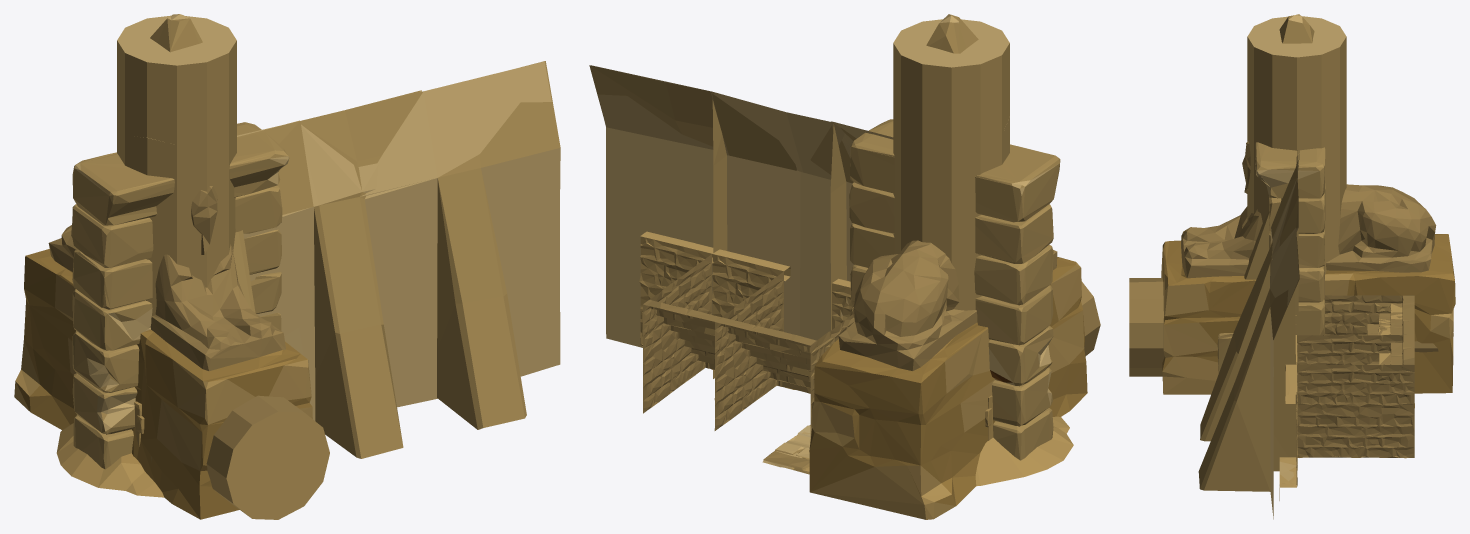
Rendered from LPAETP_ModelLibrary.fbx.
3 renders of one model, left to right at view 1: azimuth 30°, elevation 25°; view 2: azimuth 150°, elevation 25°; view 3: azimuth 270°, elevation 25°, orthographic. The views are drawn at different scales.
Parts seen in each view (by area): view 1: LPAETP_Wall07, LPAETP_Statue01, LPAETP_Wall013, LPAETP_Pillar01, LPAETP_Wall08, LPAETP_Wall010, LPAETP_Pillar04, LPAETP_Wall09, LPAETP_Wall011, LPAETP_Pillar02, LPAETP_Debris03, LPAETP_Pillar05; view 2: LPAETP_Statue01, LPAETP_Wall013, LPAETP_Wall010, LPAETP_Pillar01, LPAETP_Wall011, LPAETP_Wall015, LPAETP_Wall05, LPAETP_Pillar02, LPAETP_Wall07, LPAETP_Wall08, LPAETP_Debris03, LPAETP_Pillar05 (+3 smaller); view 3: LPAETP_Statue01, LPAETP_Wall07, LPAETP_Wall015, LPAETP_Pillar01, LPAETP_Wall013, LPAETP_Pillar02, LPAETP_Wall05, LPAETP_Pillar04, LPAETP_Wall08, LPAETP_Wall010, LPAETP_Wall09, LPAETP_Pillar05 (+1 smaller).
Part boxes in pixels (x1,y1,x2,y2): LPAETP_Wall07: [285, 61, 560, 457]; LPAETP_Statue01: [14, 186, 312, 519]; LPAETP_Wall013: [72, 122, 289, 469]; LPAETP_Pillar01: [117, 15, 236, 287]; LPAETP_Wall08: [284, 90, 420, 458]; LPAETP_Wall010: [237, 61, 560, 420]; LPAETP_Pillar04: [206, 395, 329, 519]; LPAETP_Wall09: [233, 121, 313, 335]; LPAETP_Wall011: [237, 90, 421, 417]; LPAETP_Pillar02: [125, 107, 236, 327]; LPAETP_Debris03: [56, 423, 144, 490]; LPAETP_Pillar05: [150, 14, 202, 462]; LPAETP_Statue01: [809, 240, 1087, 519]; LPAETP_Wall013: [849, 119, 1060, 460]; LPAETP_Wall010: [591, 65, 893, 347]; LPAETP_Pillar01: [893, 19, 1009, 310]; LPAETP_Wall011: [711, 93, 893, 340]; LPAETP_Wall015: [639, 231, 817, 413]; LPAETP_Wall05: [712, 249, 854, 438]; LPAETP_Pillar02: [893, 93, 1009, 309]; LPAETP_Wall07: [589, 65, 856, 378]; LPAETP_Wall08: [712, 93, 855, 330]; LPAETP_Debris03: [975, 426, 1073, 486]; LPAETP_Pillar05: [926, 14, 978, 53]; LPAETP_Statue01: [1161, 141, 1455, 394]; LPAETP_Wall07: [1198, 150, 1299, 515]; LPAETP_Wall015: [1279, 295, 1414, 500]; LPAETP_Pillar01: [1247, 16, 1346, 222]; LPAETP_Wall013: [1255, 142, 1325, 335]; LPAETP_Pillar02: [1254, 71, 1346, 274]; LPAETP_Wall05: [1286, 295, 1414, 418]; LPAETP_Pillar04: [1129, 278, 1438, 376]; LPAETP_Wall08: [1200, 198, 1298, 440]; LPAETP_Wall010: [1270, 150, 1299, 519]; LPAETP_Wall09: [1244, 152, 1297, 279]; LPAETP_Pillar05: [1279, 14, 1314, 43].
Bounding box in the file's own units: 3.91 × 3.39 × 2.78.
